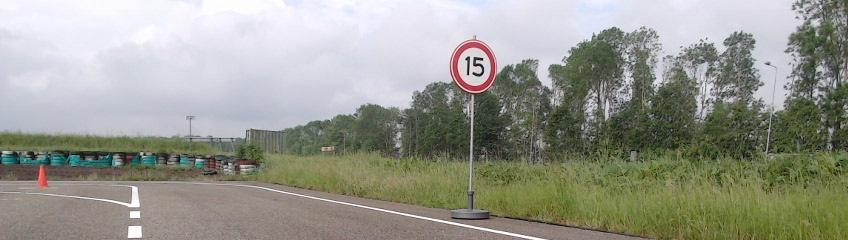Speed-limit-15km-h-: (450, 40, 497, 93)
